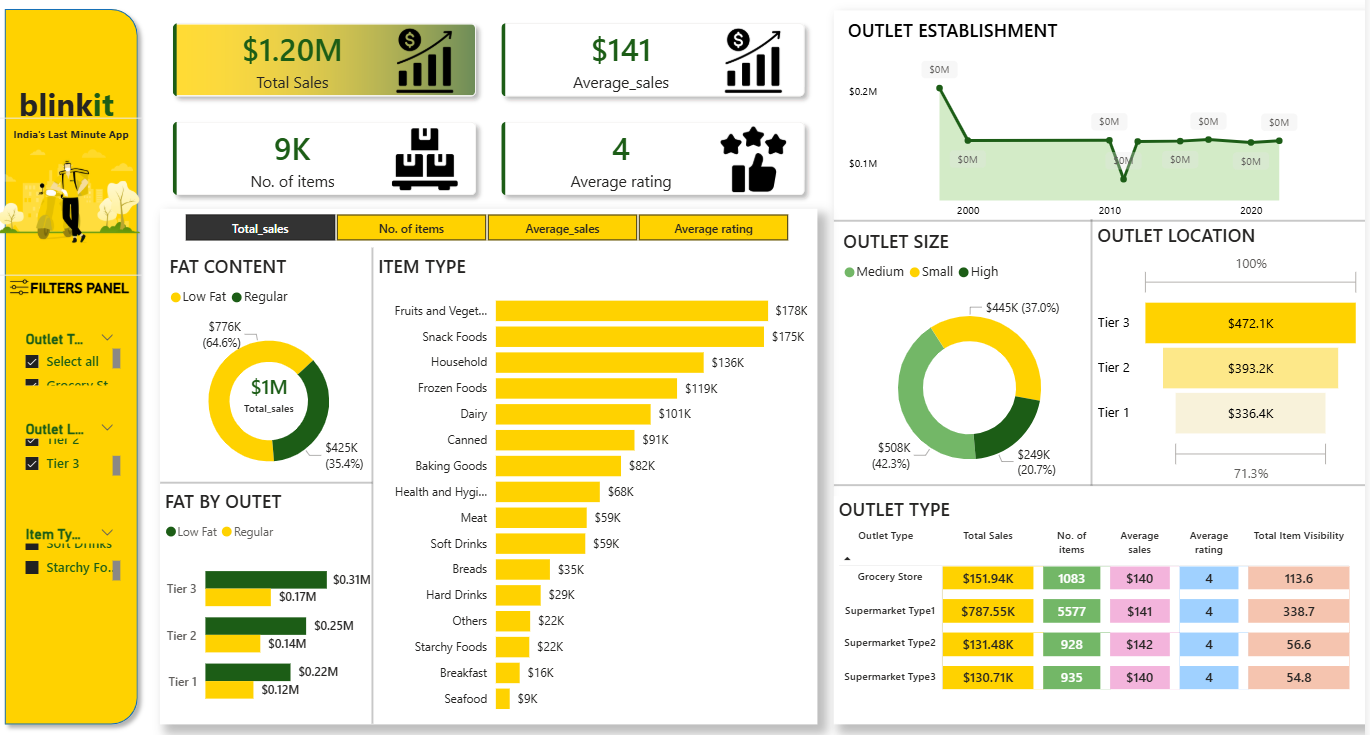

What the dashboard file says about the page in this screenshot:
{"tool":"powerbi","page":{"name":"Blinkit analysis","canvas":[1400,800],"ordinal":0},"visuals":[{"type":"shape","box":[856.2,28.8,543.8,730],"z":0},{"type":"textbox","box":[19.4,298.8,134.1,31.2],"z":0,"group":"g2"},{"type":"shape","box":[167.7,231.5,672.3,526.9],"z":1000},{"type":"image","box":[2.5,298.8,42.5,27.5],"z":1000,"group":"g2"},{"type":"cardVisual","fields":{"Data":["Sum(BlinkIT Grocery Data.Total Sales)","BlinkIT Grocery Data.Average_sales","BlinkIT Grocery Data.No. of items","BlinkIT Grocery Data.Average rating"]},"box":[167.7,29.2,672.3,202.3],"z":2000},{"type":"shape","box":[0,18.7,153.9,749.5],"z":3000},{"type":"textbox","box":[18.5,97.9,112.5,95],"z":4000,"group":"g1"},{"type":"clusteredBarChart","title":"ITEM TYPE","fields":{"Y":["BlinkIT Grocery Data.No. of items"],"Category":["BlinkIT Grocery Data.Item Type"]},"box":[385.4,276.9,448.5,481.5],"z":4000},{"type":"textbox","box":[13,139.7,142.2,86.3],"z":5000,"group":"g1"},{"type":"donutChart","title":"FAT CONTENT","fields":{"Y":["BlinkIT Grocery Data.No. of items"],"Category":["BlinkIT Grocery Data.Item Fat Content"]},"box":[173.1,276.9,212.3,248.5],"z":5000},{"type":"slicer","fields":{"Values":["Parameter.Parameter"]},"box":[167.5,231.2,666.2,40],"z":6000},{"type":"clusteredBarChart","title":"FAT BY OUTET","fields":{"Y":["Sum(BlinkIT Grocery Data.Total Sales)"],"Category":["BlinkIT Grocery Data.Outlet Location Type"],"Series":["BlinkIT Grocery Data.Item Fat Content"]},"box":[167.7,517.7,220,240.8],"z":7000},{"type":"shape","box":[167.9,505.7,217.1,12.1],"z":8000},{"type":"shape","box":[378.6,271.4,12.1,487.1],"z":9000},{"type":"cardVisual","fields":{"Data":["BlinkIT Grocery Data.No. of items"]},"box":[218.8,383.8,120,75],"z":10000},{"type":"areaChart","title":"OUTLET ESTABLISHMENT","fields":{"Category":["BlinkIT Grocery Data.Outlet Establishment Year"],"Y":["Sum(BlinkIT Grocery Data.Total Sales)"]},"box":[866.2,36.2,506.2,215],"z":11000},{"type":"shape","box":[856.2,236.2,543.8,15],"z":12000},{"type":"donutChart","title":"OUTLET SIZE","fields":{"Y":["Sum(BlinkIT Grocery Data.Total Sales)"],"Category":["BlinkIT Grocery Data.Outlet Size"]},"box":[861.2,251.2,267.5,272.5],"z":13000},{"type":"funnel","title":"OUTLET LOCATION","fields":{"Category":["BlinkIT Grocery Data.Outlet Location Type"],"Y":["Sum(BlinkIT Grocery Data.Total Sales)"]},"box":[1121.2,246.2,278.8,272.5],"z":14000},{"type":"shape","box":[1112.5,242.5,16.2,272.5],"z":15000},{"type":"pivotTable","title":"OUTLET TYPE","fields":{"Rows":["BlinkIT Grocery Data.Outlet Type"],"Values":["Sum(BlinkIT Grocery Data.Total Sales)","BlinkIT Grocery Data.No. of items","BlinkIT Grocery Data.Average_sales","BlinkIT Grocery Data.Average rating","Sum(BlinkIT Grocery Data.Item Visibility)"]},"box":[856.2,526.2,543.8,232.5],"z":16000},{"type":"shape","box":[856.2,508.8,543.8,12.5],"z":17000},{"type":"group","id":"g1","title":"Group 1","box":[0,97.9,156.2,201.7],"z":18000},{"type":"group","id":"g2","title":"Group 2","box":[2.5,298.8,151.2,31.2],"z":19000},{"type":"slicer","fields":{"Values":["BlinkIT Grocery Data.Outlet Type"]},"box":[17.5,352.5,115,65.6],"z":19000,"group":"g3"},{"type":"image","box":[0,138.5,150,161.2],"z":19002,"group":"g1"},{"type":"group","id":"g3","title":"Group 3","box":[17.5,352.5,115,265],"z":20000},{"type":"slicer","fields":{"Values":["BlinkIT Grocery Data.Outlet Location Type"]},"box":[17.5,444.8,115,65.6],"z":20000,"group":"g3"},{"type":"slicer","fields":{"Values":["BlinkIT Grocery Data.Item Type"]},"box":[17.5,551.9,115,65.6],"z":21000,"group":"g3"}]}

Visuals, with their boxes on the page's 1400x800 design canvas (x1, y1, x2, y2). These are canvas units, not pixel positions in the 1370x735 screenshot, which may show the page scaled, cropped or inside an application window:
shape: bbox=[856, 29, 1400, 759]
textbox: bbox=[19, 299, 154, 330]
shape: bbox=[168, 232, 840, 758]
image: bbox=[2, 299, 45, 326]
cardVisual - Sum(BlinkIT Grocery Data.Total Sales) x BlinkIT Grocery Data.Average_sales: bbox=[168, 29, 840, 232]
shape: bbox=[0, 19, 154, 768]
textbox: bbox=[18, 98, 131, 193]
"ITEM TYPE" clusteredBarChart: bbox=[385, 277, 834, 758]
textbox: bbox=[13, 140, 155, 226]
"FAT CONTENT" donutChart: bbox=[173, 277, 385, 525]
slicer - Parameter.Parameter: bbox=[168, 231, 834, 271]
"FAT BY OUTET" clusteredBarChart: bbox=[168, 518, 388, 758]
shape: bbox=[168, 506, 385, 518]
shape: bbox=[379, 271, 391, 758]
cardVisual - BlinkIT Grocery Data.No. of items: bbox=[219, 384, 339, 459]
"OUTLET ESTABLISHMENT" areaChart: bbox=[866, 36, 1372, 251]
shape: bbox=[856, 236, 1400, 251]
"OUTLET SIZE" donutChart: bbox=[861, 251, 1129, 524]
"OUTLET LOCATION" funnel: bbox=[1121, 246, 1400, 519]
shape: bbox=[1112, 242, 1129, 515]
"OUTLET TYPE" pivotTable: bbox=[856, 526, 1400, 759]
shape: bbox=[856, 509, 1400, 521]
"Group 1" group: bbox=[0, 98, 156, 300]
"Group 2" group: bbox=[2, 299, 154, 330]
slicer - BlinkIT Grocery Data.Outlet Type: bbox=[18, 352, 132, 418]
image: bbox=[0, 138, 150, 300]
"Group 3" group: bbox=[18, 352, 132, 618]
slicer - BlinkIT Grocery Data.Outlet Location Type: bbox=[18, 445, 132, 510]
slicer - BlinkIT Grocery Data.Item Type: bbox=[18, 552, 132, 618]
